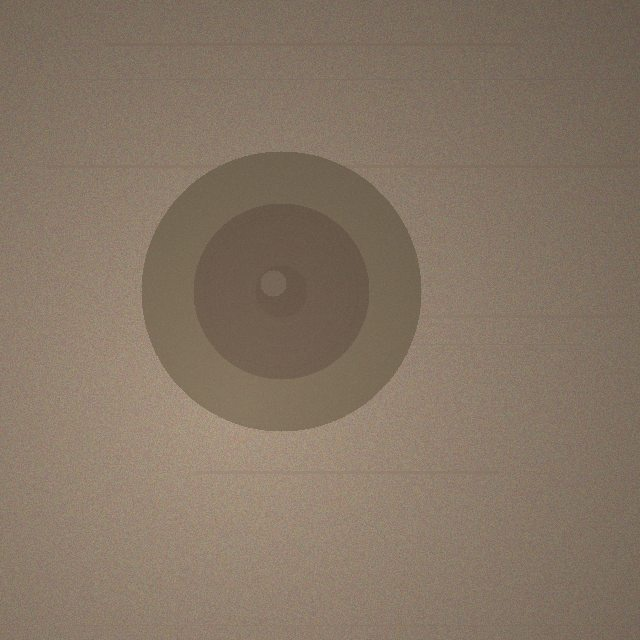good: (141, 151, 421, 431)
